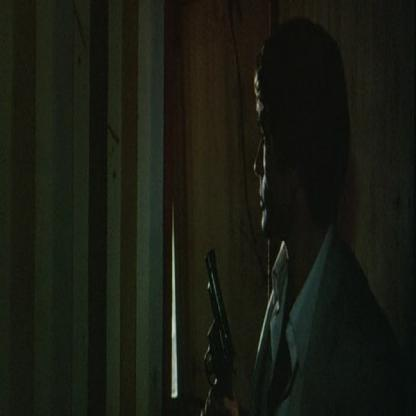Guns: (198, 241, 238, 414)
